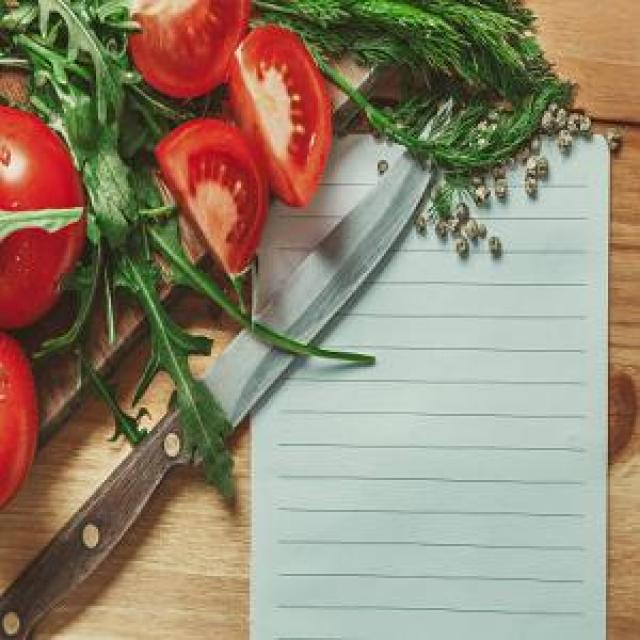knife: (0, 98, 457, 638)
